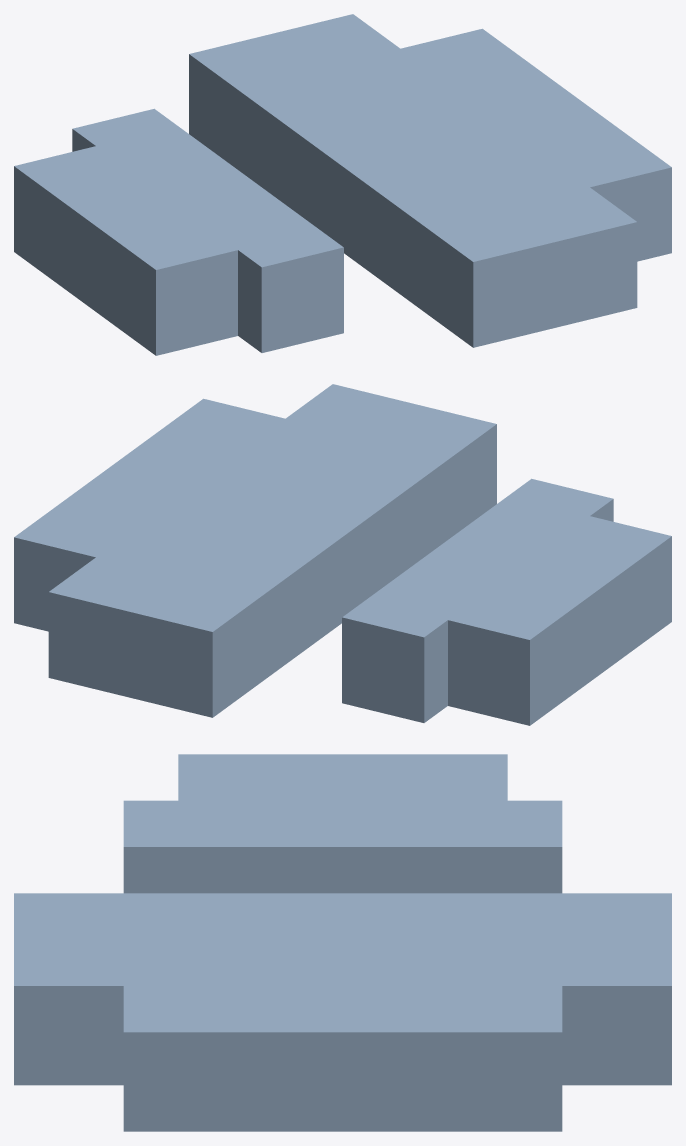
The model's file is stone-path.glb.
3 renders of one model, top to bottom at view 1: azimuth 30°, elevation 25°; view 2: azimuth 150°, elevation 25°; view 3: azimuth 270°, elevation 25°, orthographic. The views are drawn at different scales.
Parts seen in each view (by area): view 1: generated(Clone); view 2: generated(Clone); view 3: generated(Clone).
Boxes of the visible parts, x1=… form: generated(Clone): x1=14, y1=14, x2=671, y2=355; generated(Clone): x1=14, y1=384, x2=671, y2=725; generated(Clone): x1=14, y1=754, x2=671, y2=1131.
Size of the model in its own units: 6 by 1 by 6.
1 material, 1 textured.
